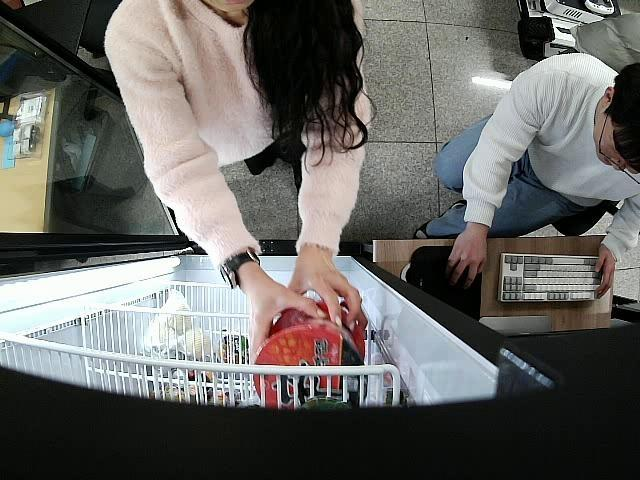01_ShinRamen_L: (253, 329, 366, 408), (290, 300, 364, 372)
